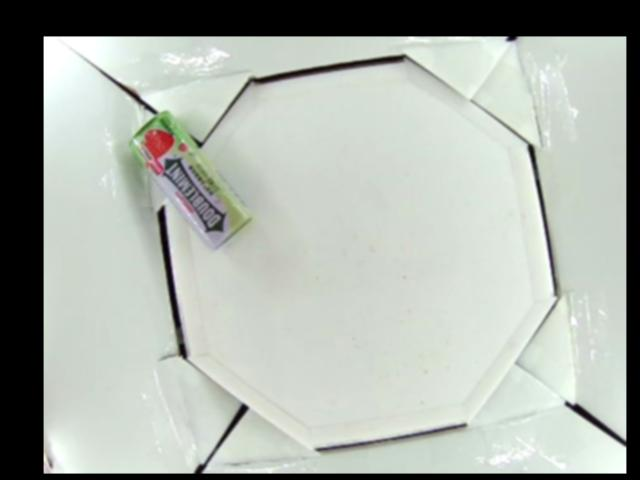Bottle: (127, 112, 251, 252)
